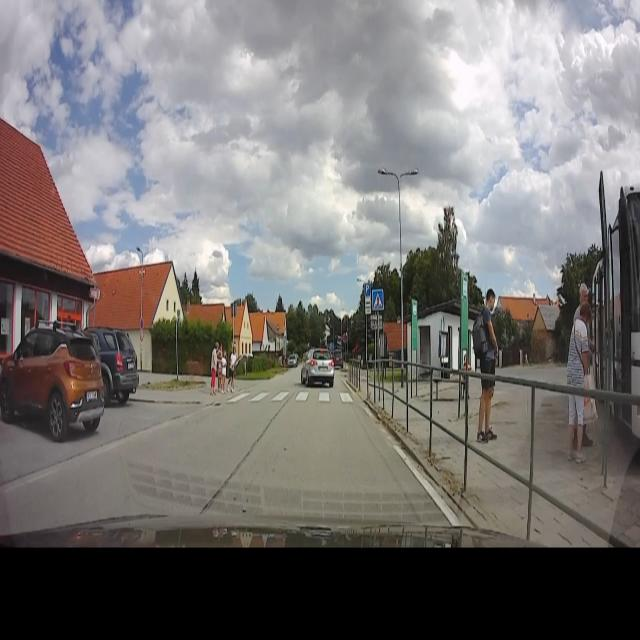Car: (308, 348, 336, 387)
Pedestrian crosswalk: (232, 388, 354, 406), (372, 289, 383, 311)
Person: (472, 287, 498, 447), (568, 304, 590, 464), (228, 346, 238, 393), (212, 343, 218, 395), (217, 342, 223, 392), (221, 350, 227, 391)
